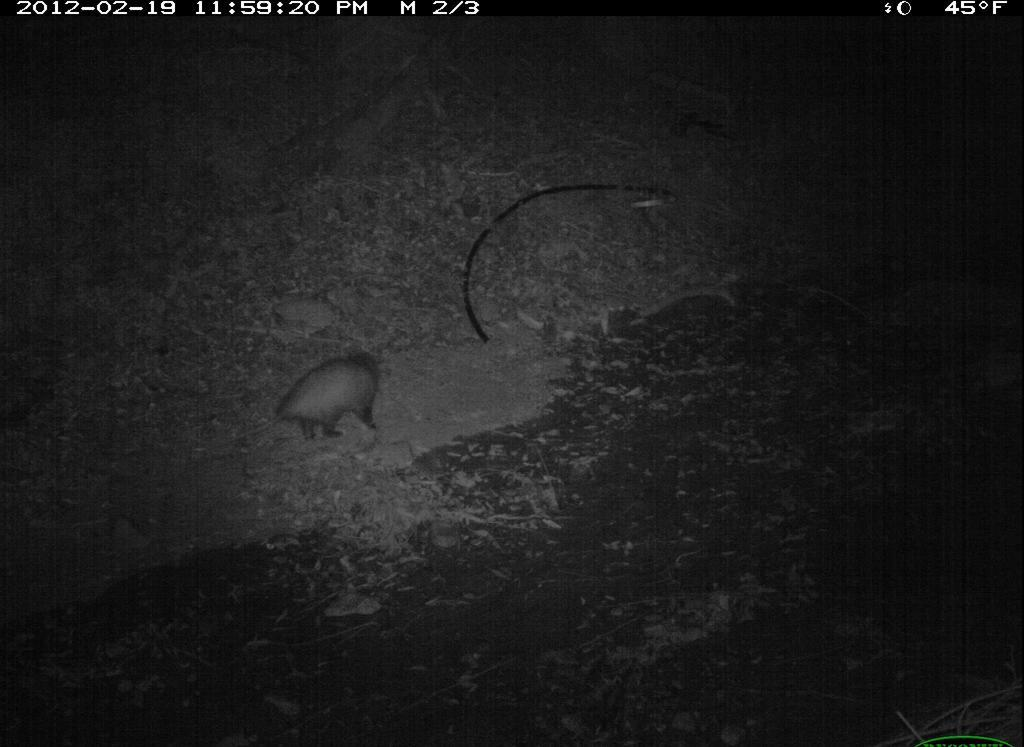opossum: (237, 346, 383, 454)
